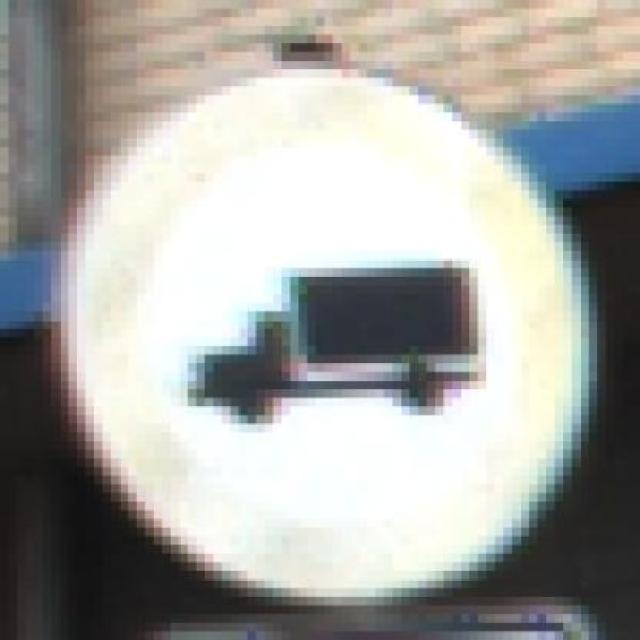Truck traffic is prohibited: (43, 26, 632, 632)
